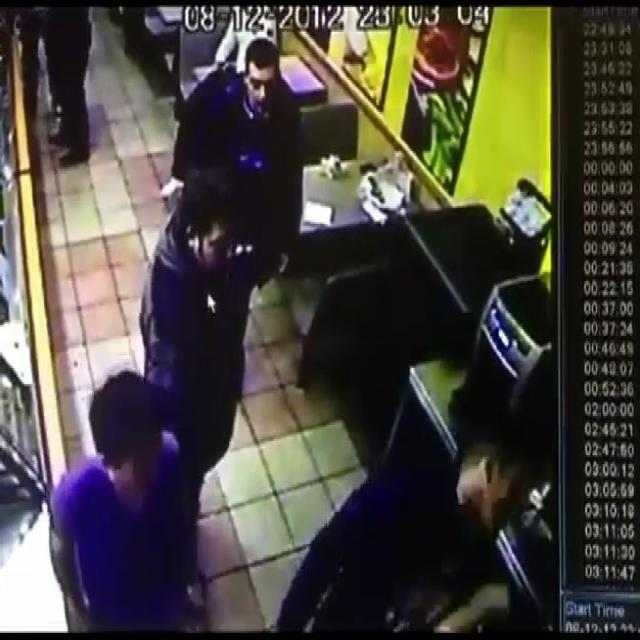fight: (275, 423, 539, 640)
